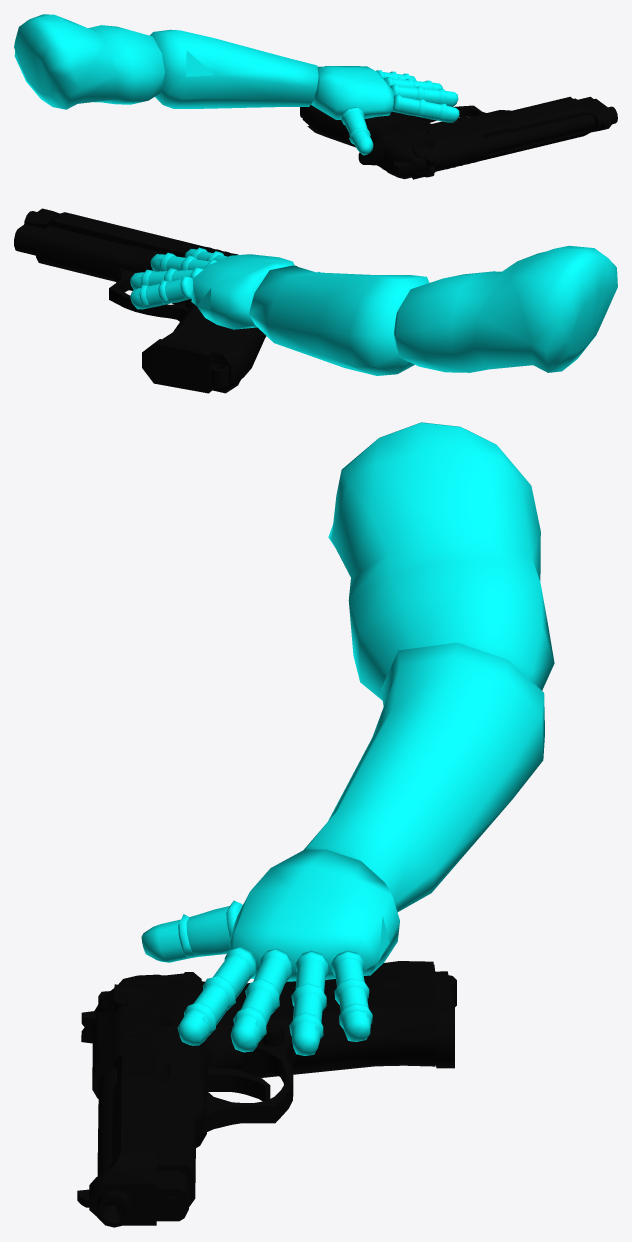
Rendered from player_arm_l.obj.
3 views of the same model, one above another, from view 1: azimuth 30°, elevation 25°; view 2: azimuth 150°, elevation 25°; view 3: azimuth 270°, elevation 25° (orthographic). The views are drawn at different scales.
Parts seen in each view (by area): view 1: player_pisutoru:bodyMesh2; view 2: player_pisutoru:bodyMesh2; view 3: player_pisutoru:bodyMesh2.
Part boxes in pixels (box(x1,y1,x2,y2)): player_pisutoru:bodyMesh2: box(14, 14, 617, 179); player_pisutoru:bodyMesh2: box(14, 208, 617, 393); player_pisutoru:bodyMesh2: box(77, 422, 554, 1227).
Size of the model in its own units: 0.9959 by 0.3247 by 0.407.
